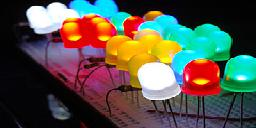LED: (138, 63, 175, 110), (179, 57, 220, 99), (224, 54, 256, 90), (25, 4, 55, 40), (118, 39, 146, 73), (61, 20, 91, 50)
